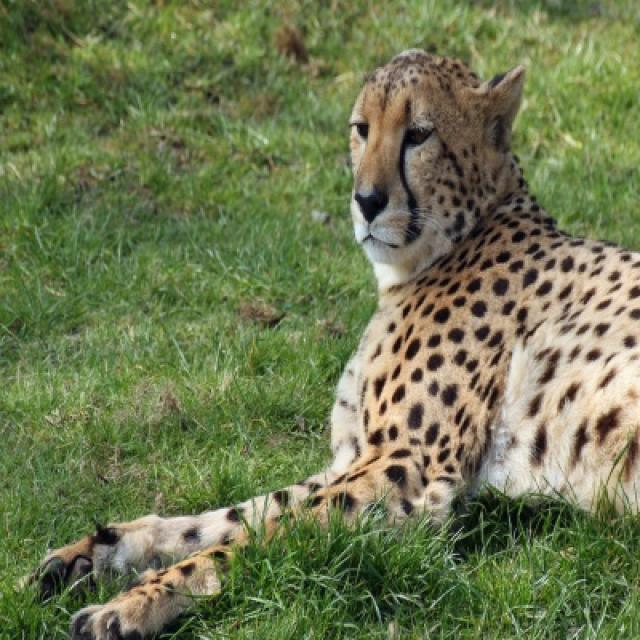Cheetah: (22, 44, 638, 638)
